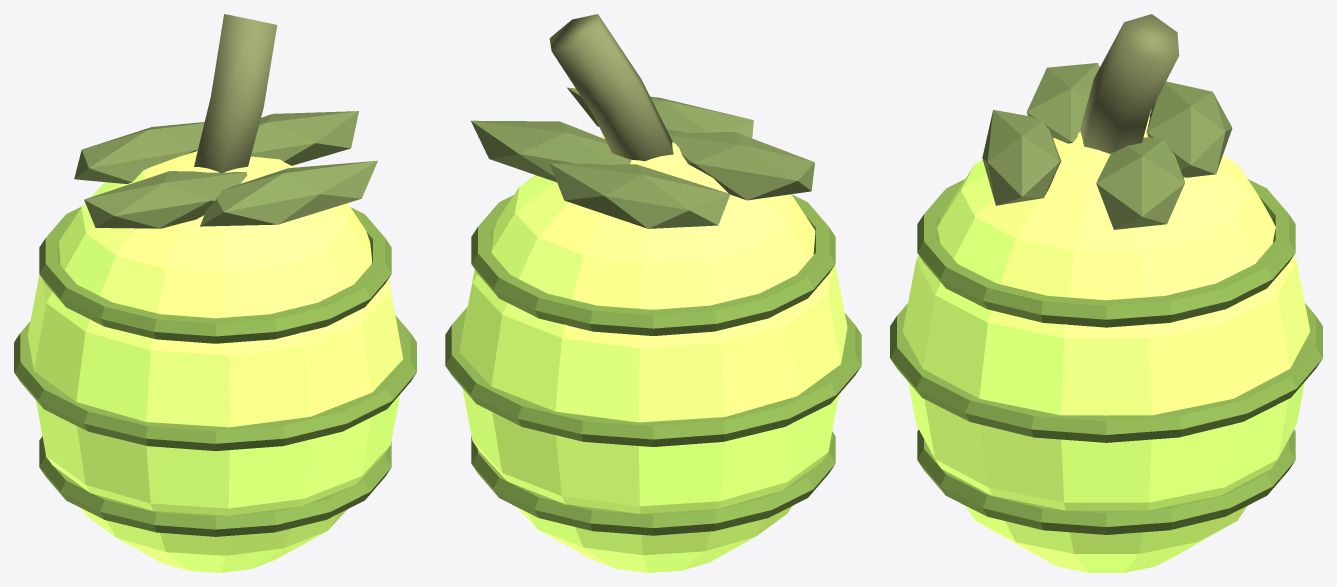
The model's file is venom_sac.glb.
3 renders of one model, left to right at view 1: azimuth 30°, elevation 25°; view 2: azimuth 150°, elevation 25°; view 3: azimuth 270°, elevation 25°, orthographic. The views are drawn at different scales.
Visible parts, largest first — view 1: model; view 2: model; view 3: model.
Boxes of the visible parts, x1,y1,x2,y2 form: model: [14, 14, 416, 572]; model: [445, 14, 861, 572]; model: [890, 14, 1322, 572].
Bounding box in the file's own units: 0.192 × 0.2694 × 0.1891.
